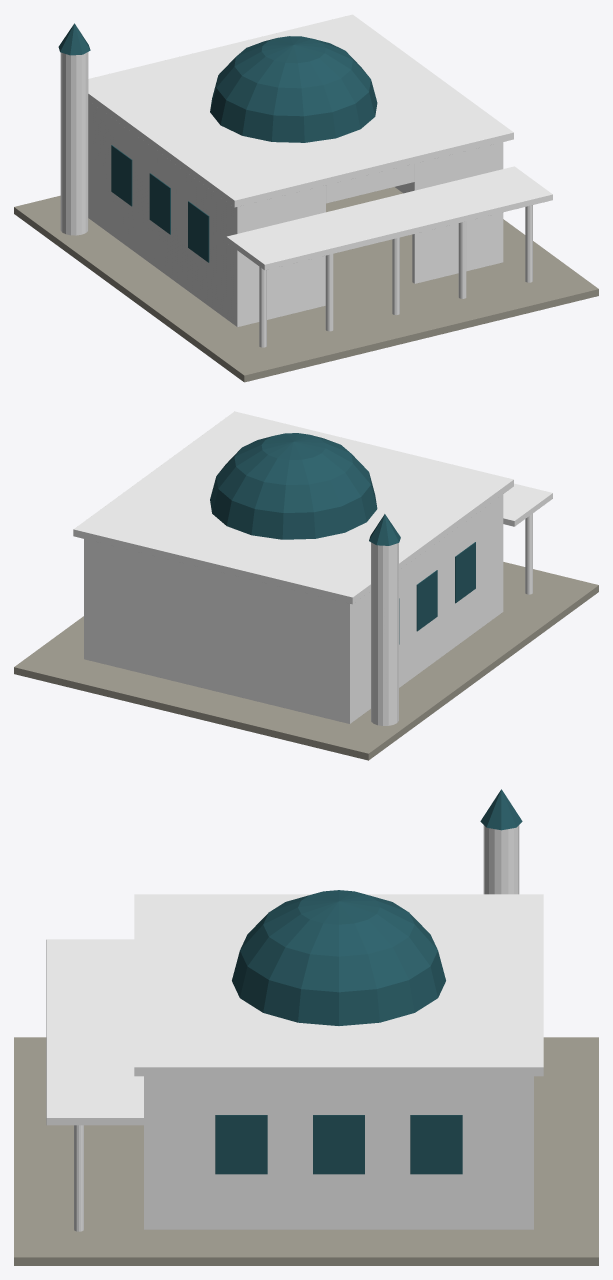
Rendered from mosque-inspired-building.glb.
3 renders of one model, top to bottom at view 1: azimuth 30°, elevation 25°; view 2: azimuth 150°, elevation 25°; view 3: azimuth 270°, elevation 25°, orthographic. The views are drawn at different scales.
Parts seen in each view (by area): view 1: Foundation, Flat_Roof, Hall_Side, Dome, Arcade_Roof, Entrance_Wing, Entrance_Wing.001, Minaret, Entrance_Header, Window, Window.001, Window.002 (+6 smaller); view 2: Rear_Wall, Flat_Roof, Foundation, Dome, Hall_Side, Minaret, Arcade_Roof, Window.001, Window, Arcade_Column.001, Minaret_Cap; view 3: Flat_Roof, Hall_Side.001, Foundation, Dome, Arcade_Roof, Window.003, Window.005, Window.004, Minaret, Arcade_Column, Minaret_Cap, Entrance_Wing.001.
Boxes of the visible parts, box(x1,y1,x2,y2) form: Foundation: box(14, 187, 598, 382); Flat_Roof: box(88, 14, 513, 207); Hall_Side: box(88, 100, 237, 326); Dome: box(210, 36, 377, 142); Arcade_Roof: box(226, 166, 552, 270); Entrance_Wing: box(235, 185, 325, 326); Entrance_Wing.001: box(412, 142, 503, 283); Minaret: box(60, 52, 88, 235); Entrance_Header: box(326, 163, 414, 203); Window: box(188, 201, 209, 262); Window.001: box(149, 173, 170, 234); Window.002: box(111, 145, 132, 206); Rear_Wall: box(84, 539, 349, 723); Flat_Roof: box(73, 411, 513, 604); Foundation: box(14, 562, 598, 760); Dome: box(210, 433, 377, 539); Hall_Side: box(345, 496, 500, 723); Minaret: box(371, 542, 398, 725); Arcade_Roof: box(503, 483, 552, 526); Window.001: box(416, 570, 437, 631); Window: box(455, 542, 475, 603); Arcade_Column.001: box(525, 513, 532, 594); Minaret_Cap: box(369, 514, 400, 545); Flat_Roof: box(134, 894, 543, 1076); Hall_Side.001: box(144, 1076, 533, 1229); Foundation: box(14, 1037, 598, 1265); Dome: box(232, 890, 445, 1025); Arcade_Roof: box(46, 939, 143, 1125); Window.003: box(215, 1115, 267, 1174); Window.005: box(410, 1115, 462, 1174); Window.004: box(313, 1115, 364, 1174); Minaret: box(483, 825, 519, 894); Arcade_Column: box(74, 1125, 83, 1231); Minaret_Cap: box(480, 789, 522, 830); Entrance_Wing.001: box(144, 1076, 150, 1222).
Bounding box in the file's own units: 16 × 9.2 × 18.
